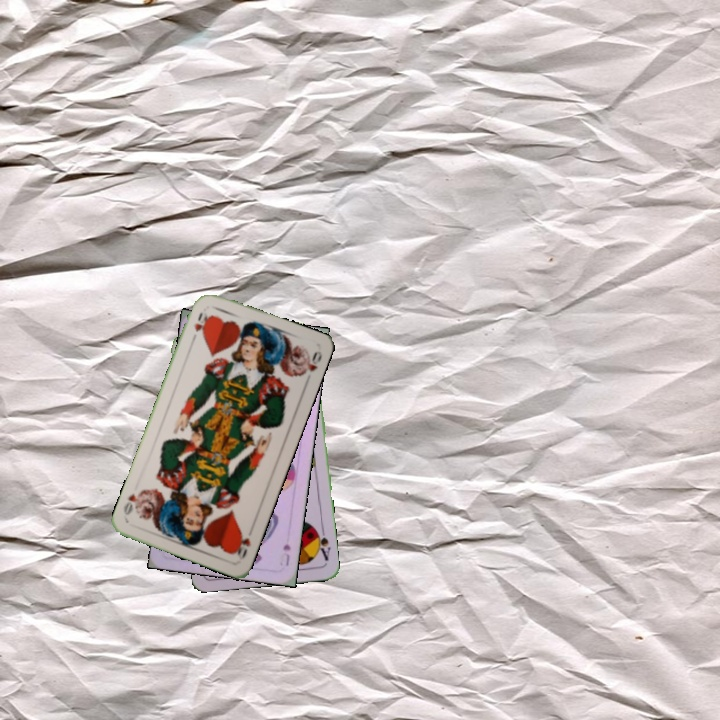HO: (231, 528, 254, 562), (190, 309, 212, 338)
SA: (312, 524, 333, 563)
SU: (276, 540, 293, 569)
